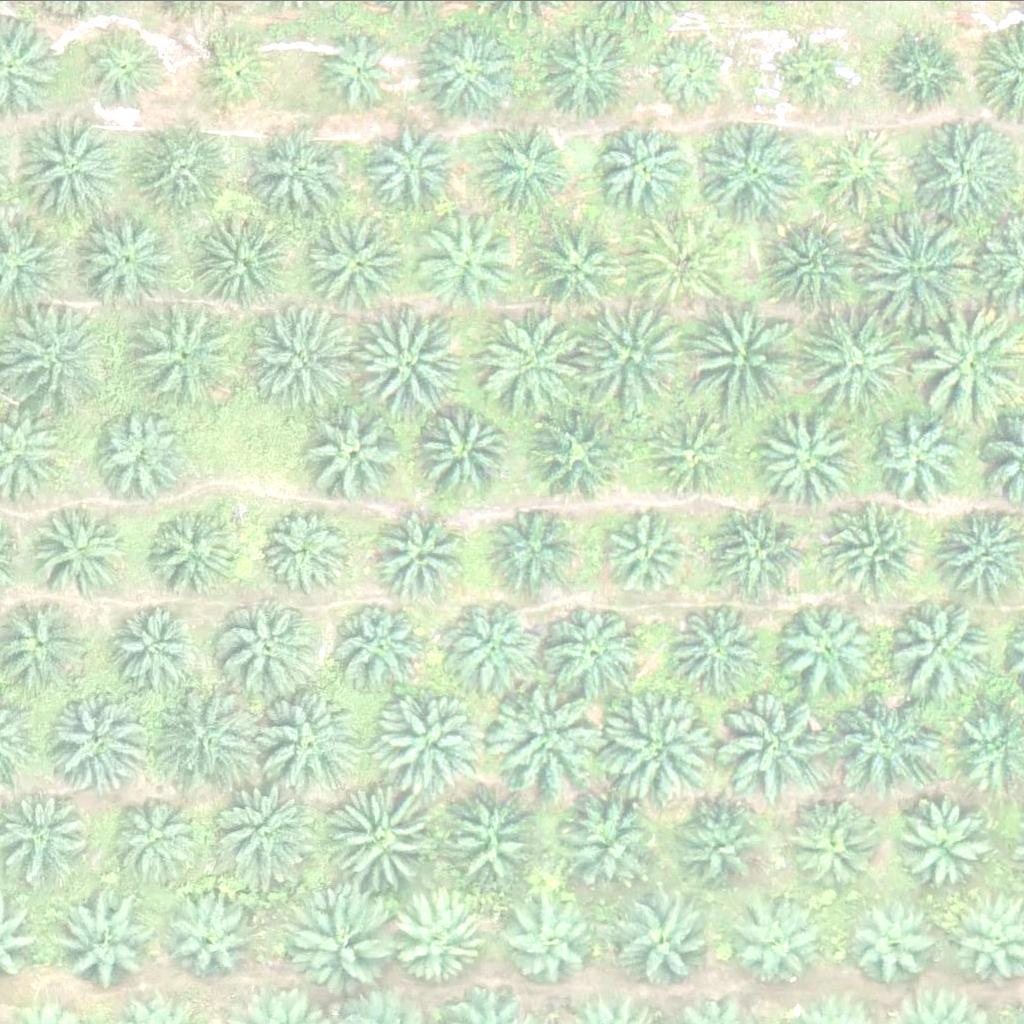Kelapa_Sawit: (205, 778, 319, 891), (253, 684, 367, 797), (135, 296, 249, 409), (803, 309, 917, 422), (575, 300, 689, 413), (147, 681, 260, 794), (247, 303, 360, 416), (483, 306, 596, 419), (354, 300, 467, 413), (603, 692, 716, 805), (487, 679, 600, 792), (373, 688, 486, 801), (678, 299, 792, 411), (332, 785, 445, 897), (16, 110, 129, 222), (830, 692, 943, 804), (865, 218, 978, 330), (906, 115, 1019, 227), (696, 116, 809, 228), (719, 686, 832, 798), (555, 792, 668, 904), (286, 901, 387, 1001), (53, 688, 154, 788), (33, 501, 134, 601), (304, 401, 405, 501), (97, 406, 198, 506), (192, 205, 293, 305), (75, 205, 176, 305), (139, 121, 240, 221), (248, 116, 349, 216), (890, 793, 991, 893), (781, 797, 882, 897), (776, 601, 877, 701), (820, 502, 921, 602), (871, 405, 972, 505), (423, 23, 524, 123), (536, 21, 637, 121), (595, 119, 696, 219), (413, 213, 514, 313), (523, 216, 624, 316), (708, 500, 809, 600), (541, 601, 642, 701), (667, 603, 768, 703), (447, 783, 548, 883), (615, 891, 716, 991), (504, 885, 605, 985), (48, 889, 148, 989), (104, 791, 204, 891), (215, 590, 315, 690), (147, 497, 247, 597), (336, 598, 436, 698), (306, 209, 406, 309), (895, 596, 995, 696), (762, 411, 862, 511), (766, 215, 866, 315), (632, 210, 732, 310), (414, 399, 514, 499), (528, 399, 628, 499), (479, 496, 579, 596), (370, 504, 470, 604), (443, 595, 543, 695), (257, 506, 345, 594), (187, 24, 275, 112), (74, 24, 162, 112), (851, 897, 939, 985), (649, 28, 737, 116), (481, 125, 569, 213), (372, 126, 460, 214), (647, 412, 735, 500), (609, 510, 697, 598), (676, 802, 764, 890), (399, 895, 487, 983), (165, 894, 253, 981), (113, 607, 201, 694), (319, 30, 407, 117), (814, 126, 902, 213), (878, 27, 966, 114), (740, 905, 828, 992), (784, 29, 859, 104)
